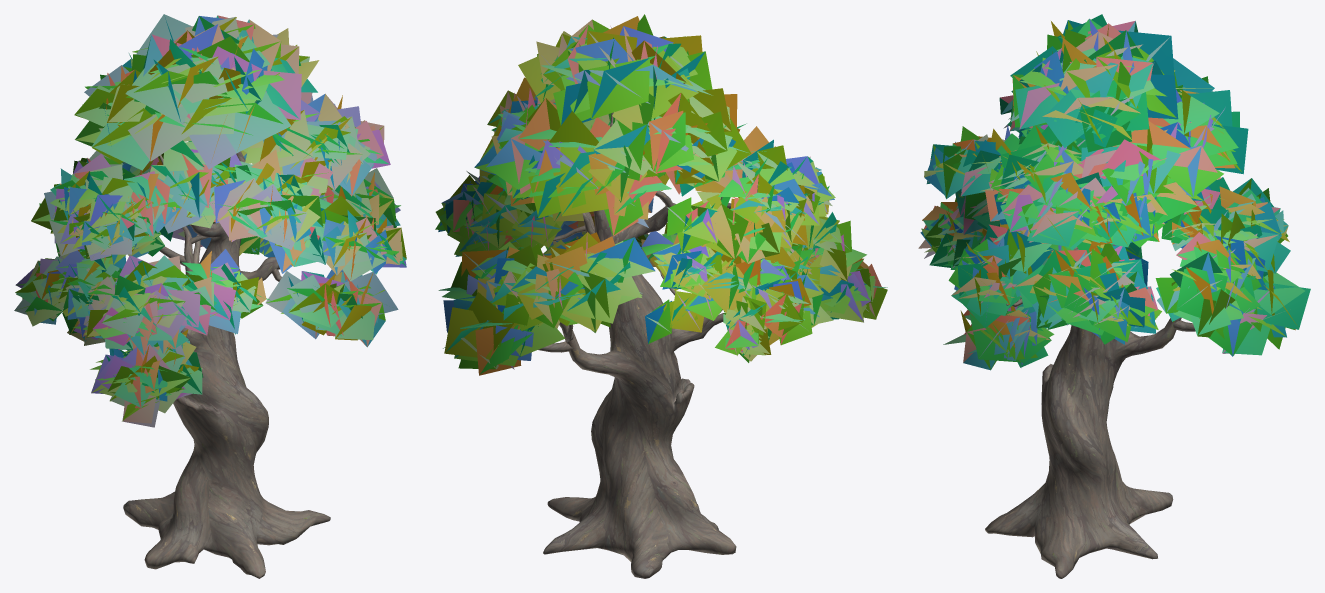
File: Homeworld_Exterior_Common_Plant_Cherrytree_01_Lod0.fbx
The picture shows the model from 3 angles, left to right: view 1: azimuth 30°, elevation 25°; view 2: azimuth 150°, elevation 25°; view 3: azimuth 270°, elevation 25°; orthographic projection. The views are drawn at different scales.
Parts seen in each view (by area): view 1: Area_Dq_Tree_Common_Sak_02_Leaf_Lod0, Area_Dq_Tree_Common_Sak_02_Bark_Lod0; view 2: Area_Dq_Tree_Common_Sak_02_Leaf_Lod0, Area_Dq_Tree_Common_Sak_02_Bark_Lod0; view 3: Area_Dq_Tree_Common_Sak_02_Leaf_Lod0, Area_Dq_Tree_Common_Sak_02_Bark_Lod0.
Part boxes in pixels (x1,y1,x2,y2): Area_Dq_Tree_Common_Sak_02_Leaf_Lod0: (14,14,406,427); Area_Dq_Tree_Common_Sak_02_Bark_Lod0: (123,151,330,578); Area_Dq_Tree_Common_Sak_02_Leaf_Lod0: (435,14,887,375); Area_Dq_Tree_Common_Sak_02_Bark_Lod0: (538,112,803,578); Area_Dq_Tree_Common_Sak_02_Leaf_Lod0: (918,14,1310,370); Area_Dq_Tree_Common_Sak_02_Bark_Lod0: (985,146,1195,578).
Bounding box in the file's own units: 24.66 × 33.01 × 23.07.
